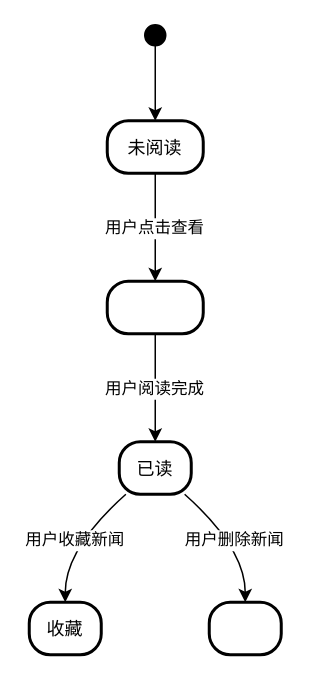
Image size: 311x680. Some labels were removed from this diagram. The shapes that lost their labels are listed below. From the top down, each one's centre as x and y in pixels, then its label:
(x=154, y=306): 阅读中
(x=244, y=628): 删除
